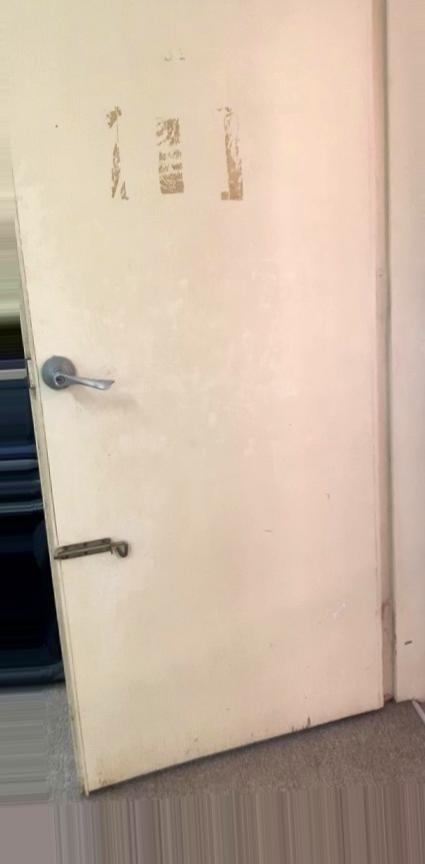door: (0, 0, 394, 800)
